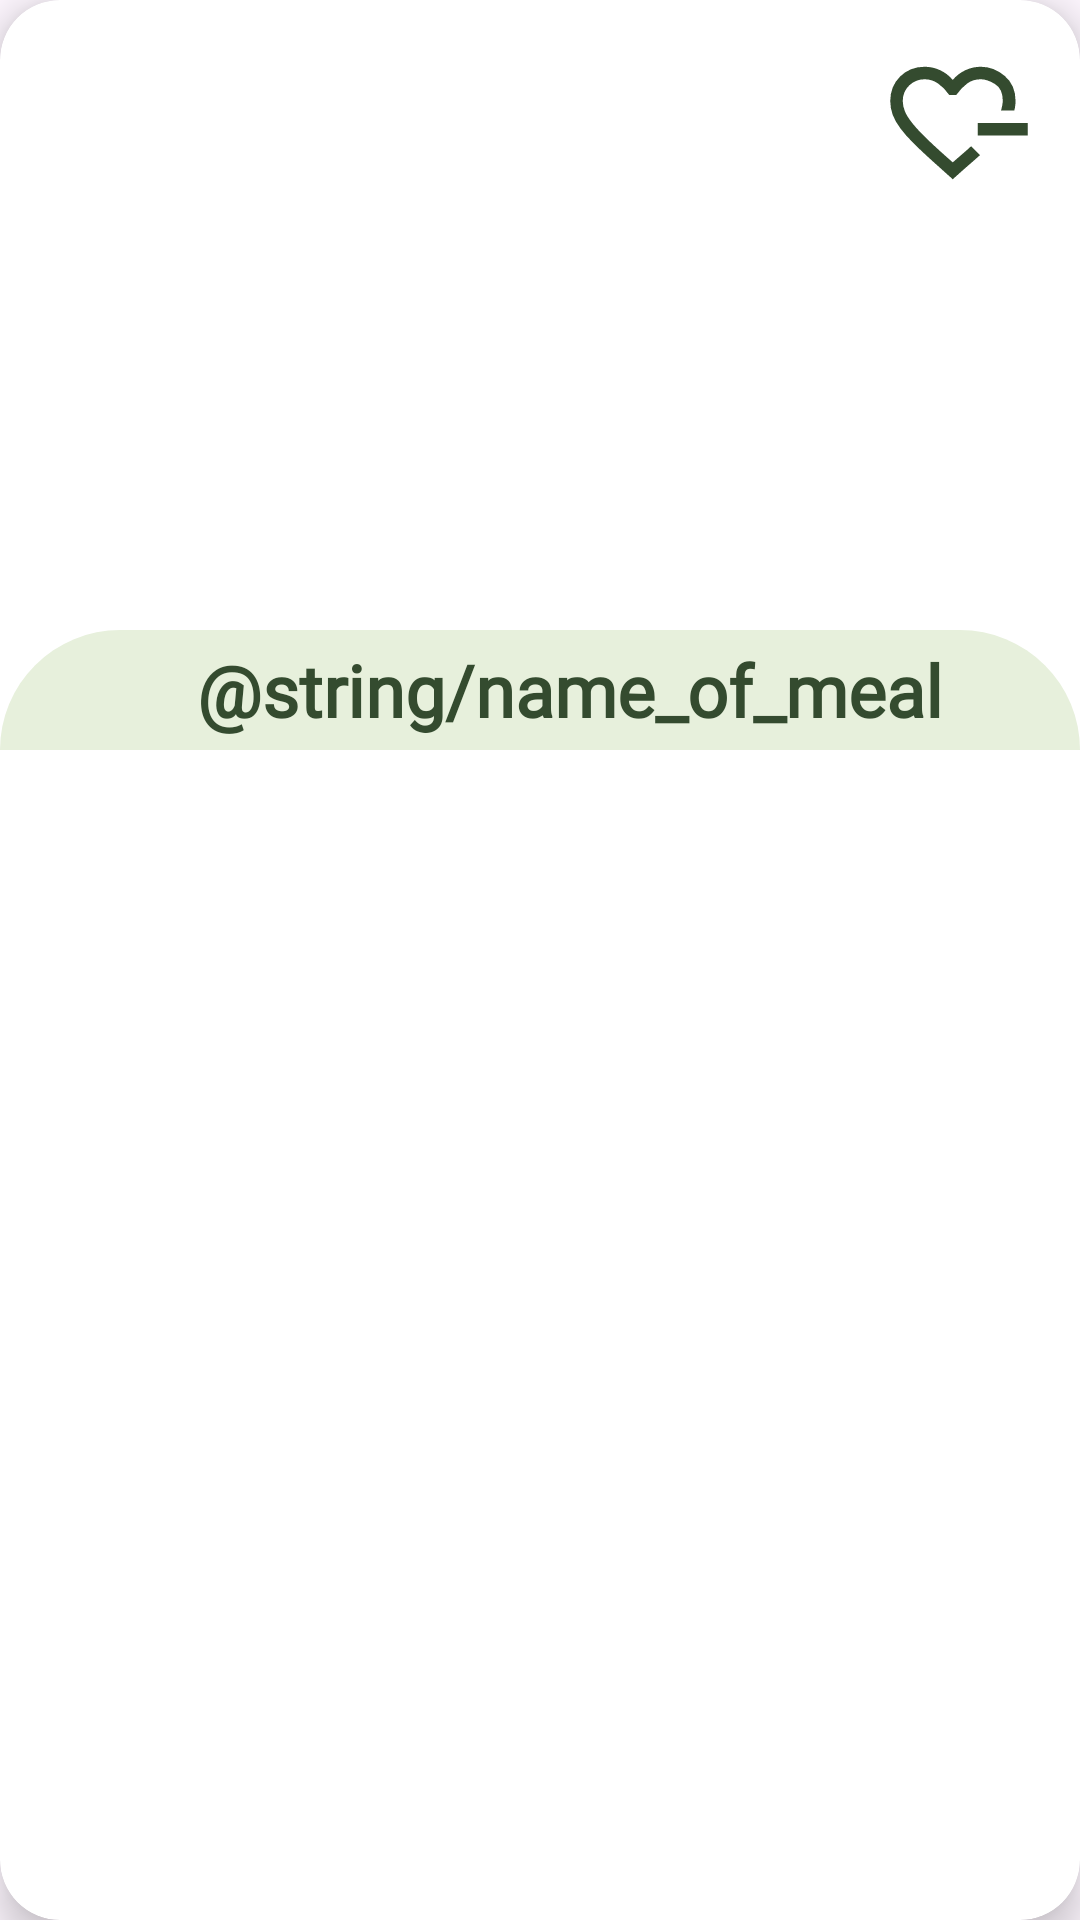

Locate icon controls on the screen. Image size 1080w x 1920h, boxes as (x1, y1, x2, y2).
dislove: (890, 66, 1028, 180)
